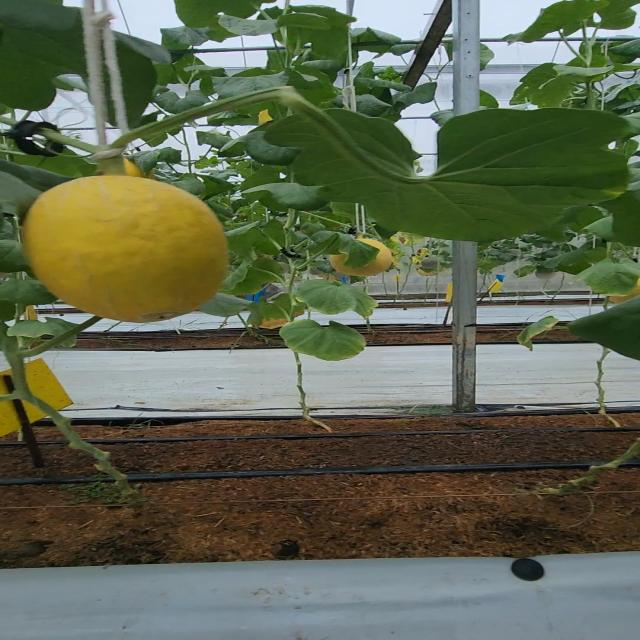Melon: (25, 176, 235, 326), (325, 236, 403, 277)
